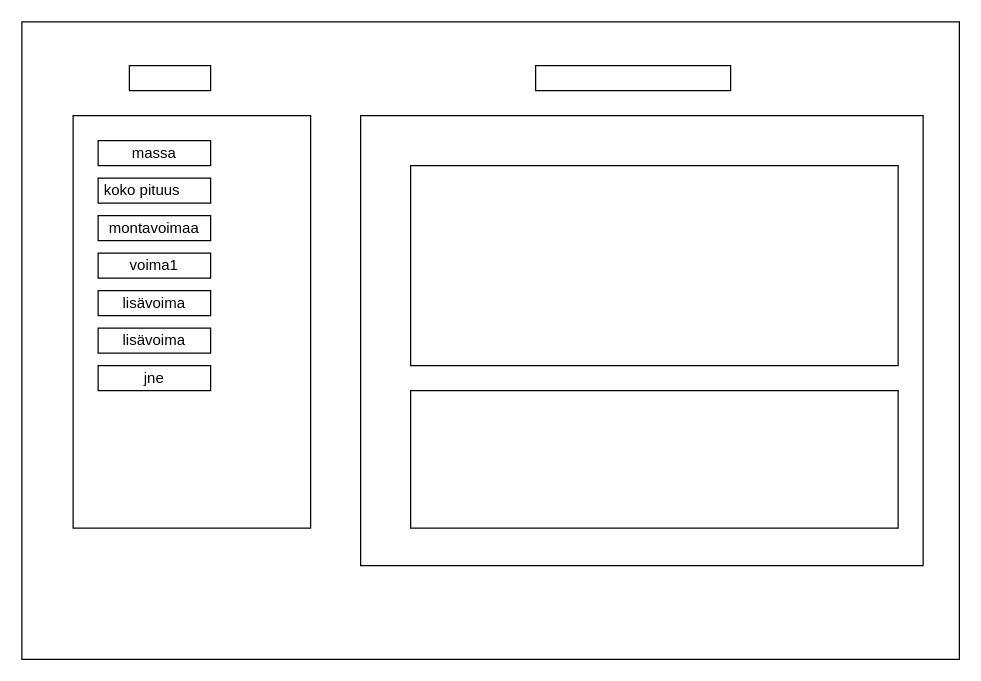
The diagram is 981 pixels wide and 681 high, and some of its shapes have lost their labels. The shapes that lost their labels are listed below. From the top down, each one's centre as x and y in pixels, then its label:
At [169,77]: "arvoja".
At [632,77]: "tulosruutu/vastaava".
At [653,265]: "Tähän piirros/mallinnus/hahmotus".
At [653,458]: "tuloksia/kaavoja/yms omissa ikkunoissa arvojen tapaan".
